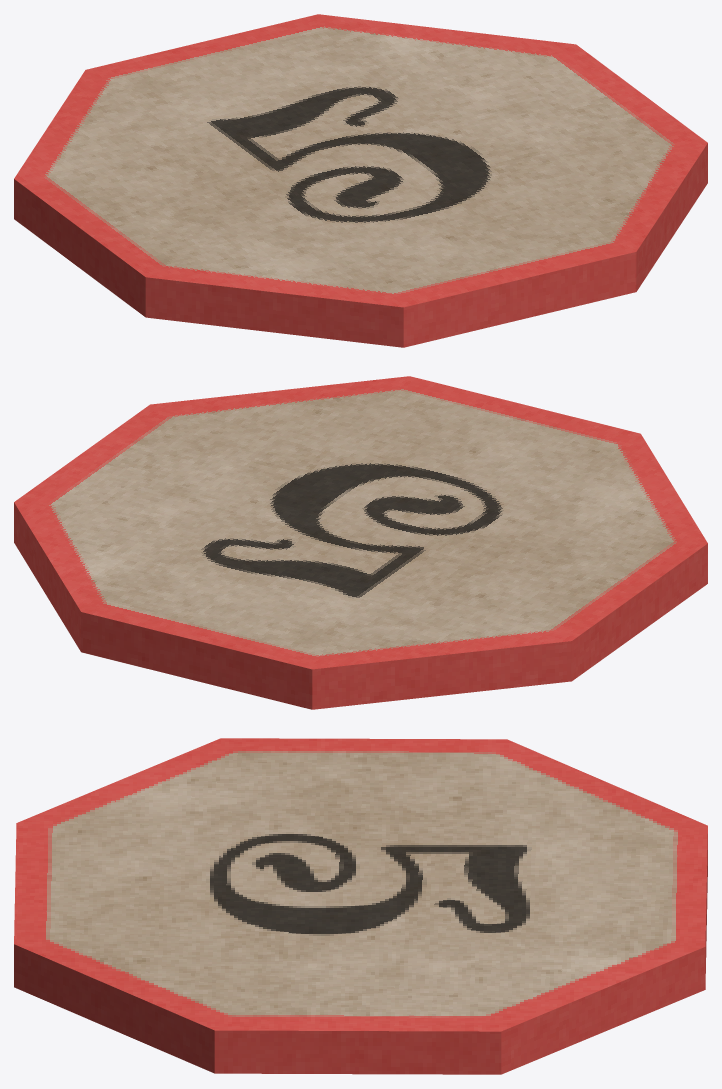
The model's file is PokerChip5.glb.
The picture shows the model from 3 angles, top to bottom: view 1: azimuth 30°, elevation 25°; view 2: azimuth 150°, elevation 25°; view 3: azimuth 270°, elevation 25°; orthographic projection. The views are drawn at different scales.
Parts seen in each view (by area): view 1: PokerChip5; view 2: PokerChip5; view 3: PokerChip5.
Part boxes in pixels (<box>): PokerChip5: <box>14,14,707,347</box>; PokerChip5: <box>14,376,707,709</box>; PokerChip5: <box>14,738,707,1074</box>.
Size of the model in its own units: 0.0358 by 0.00245 by 0.0358.
1 material, 1 textured.
